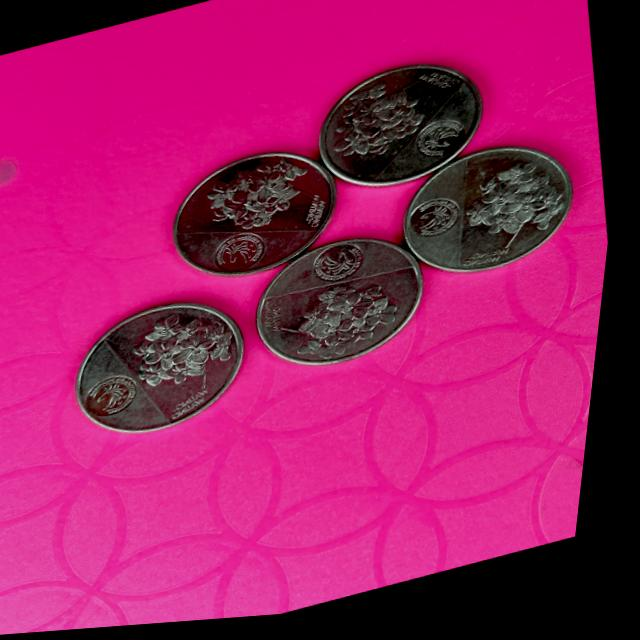1_New_Back: (317, 57, 441, 177), (126, 307, 256, 409), (456, 168, 584, 268), (286, 278, 404, 374), (196, 157, 305, 243)
